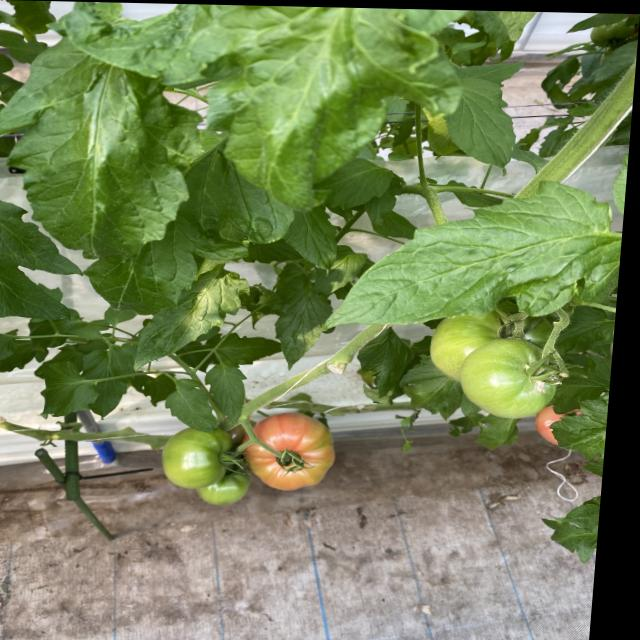yesil: (392, 296, 586, 435), (154, 408, 258, 510), (271, 379, 338, 508), (203, 298, 284, 374)
